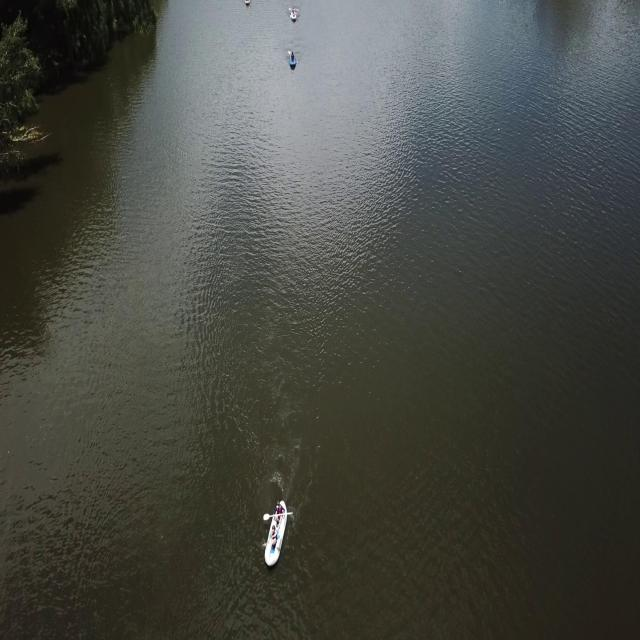kayak: (264, 500, 288, 566), (287, 50, 298, 73), (290, 7, 299, 25)
